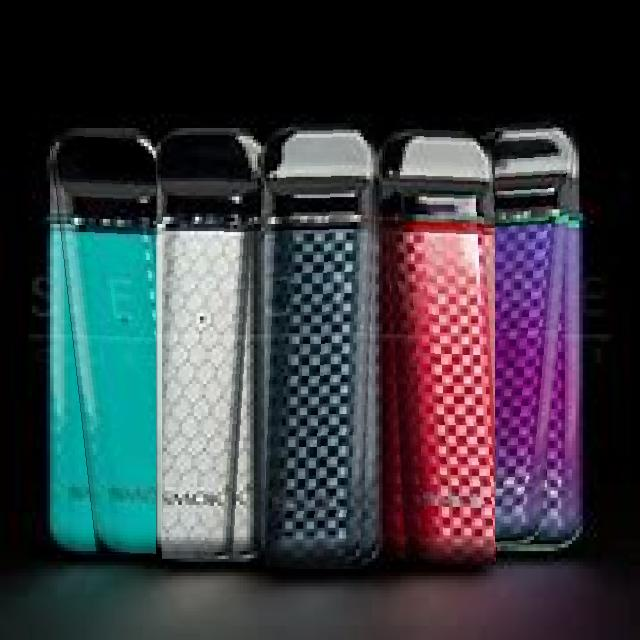Vapes: (382, 121, 496, 565), (265, 123, 378, 568), (49, 128, 156, 554), (162, 128, 258, 559), (495, 117, 578, 549)
